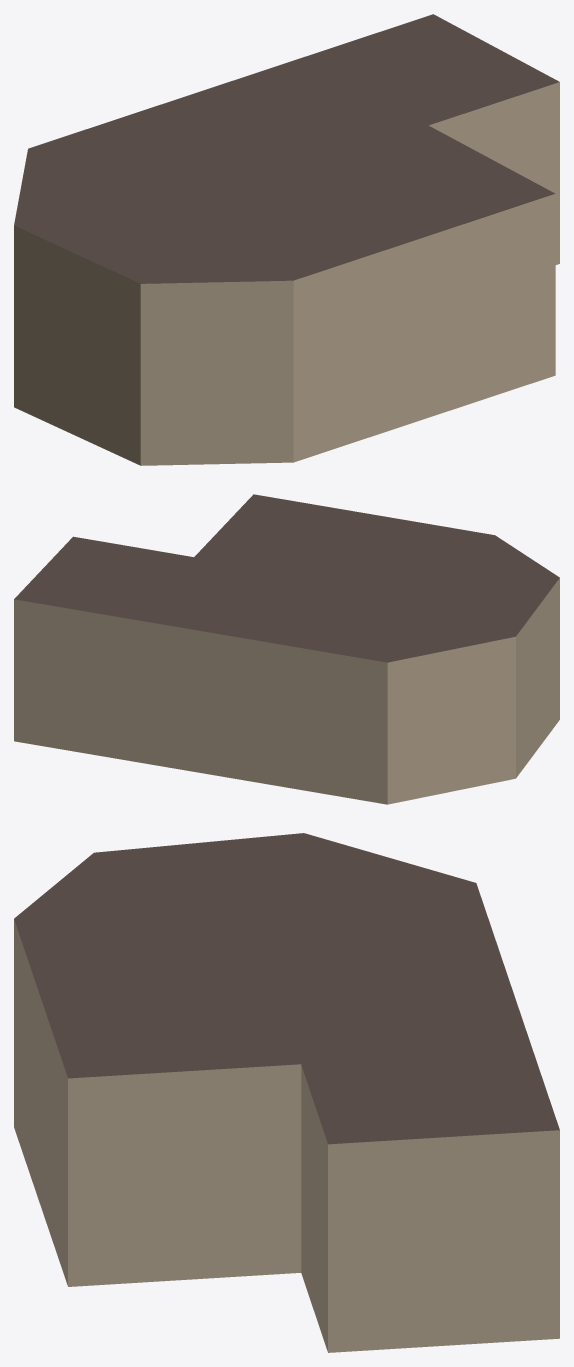
3 views of the same model, one above another, from view 1: azimuth 30°, elevation 25°; view 2: azimuth 150°, elevation 25°; view 3: azimuth 270°, elevation 25° (orthographic). The views are drawn at different scales.
Parts seen in each view (by area): view 1: HP-w1323628262; view 2: HP-w1323628262; view 3: HP-w1323628262.
Boxes of the visible parts, x1,y1,x2,y2 form: HP-w1323628262: (14,14,559,465); HP-w1323628262: (14,494,559,804); HP-w1323628262: (14,833,559,1352).
Size of the model in its own units: 28.81 by 9 by 21.35.
